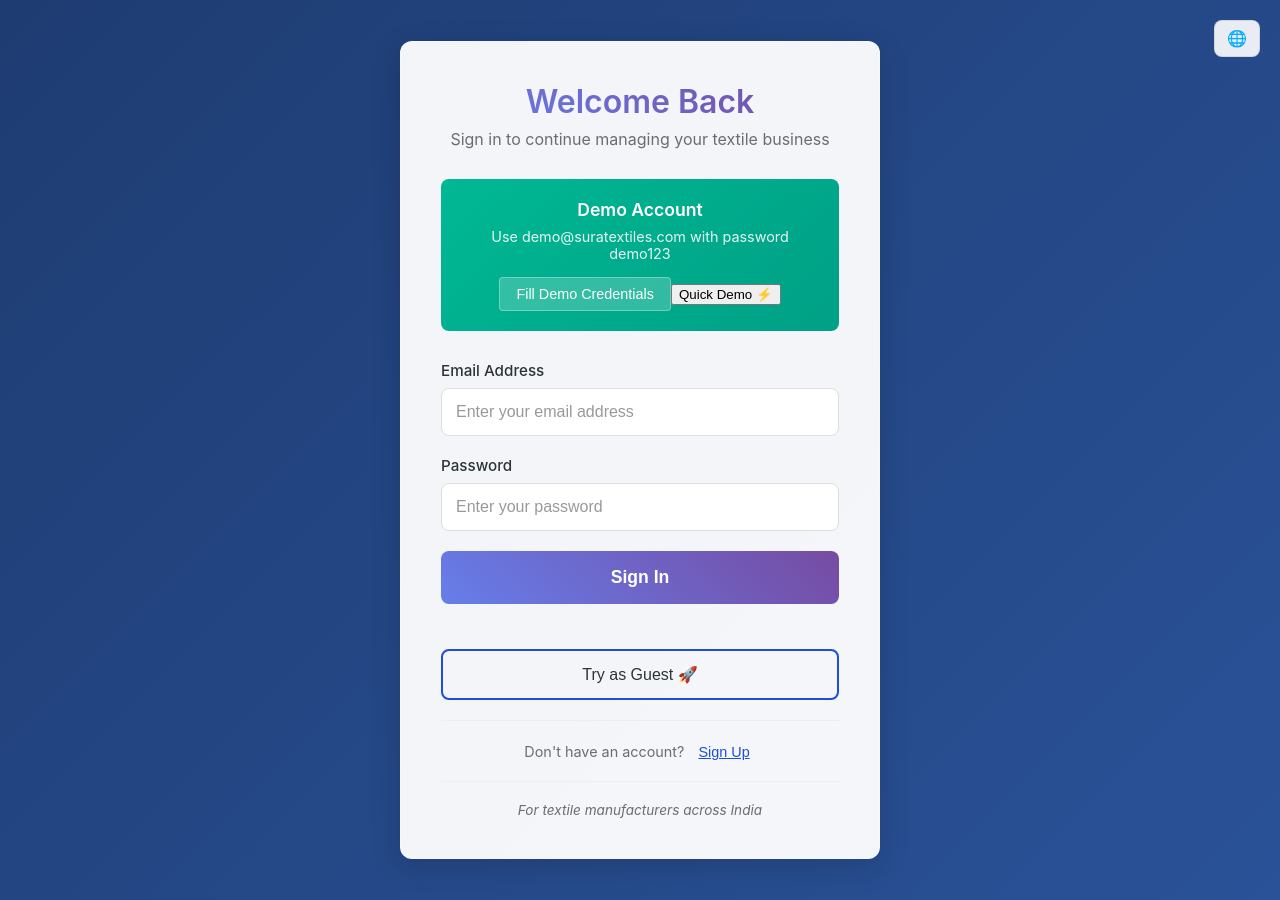
Test: Login Component › Demo Credentials Functionality › should fill demo credentials when demo button clicked
This screenshot has width=1280, height=900.
Click the button "Fill Demo Credentials" at (585, 294), box left=499, top=277, right=671, bottom=311
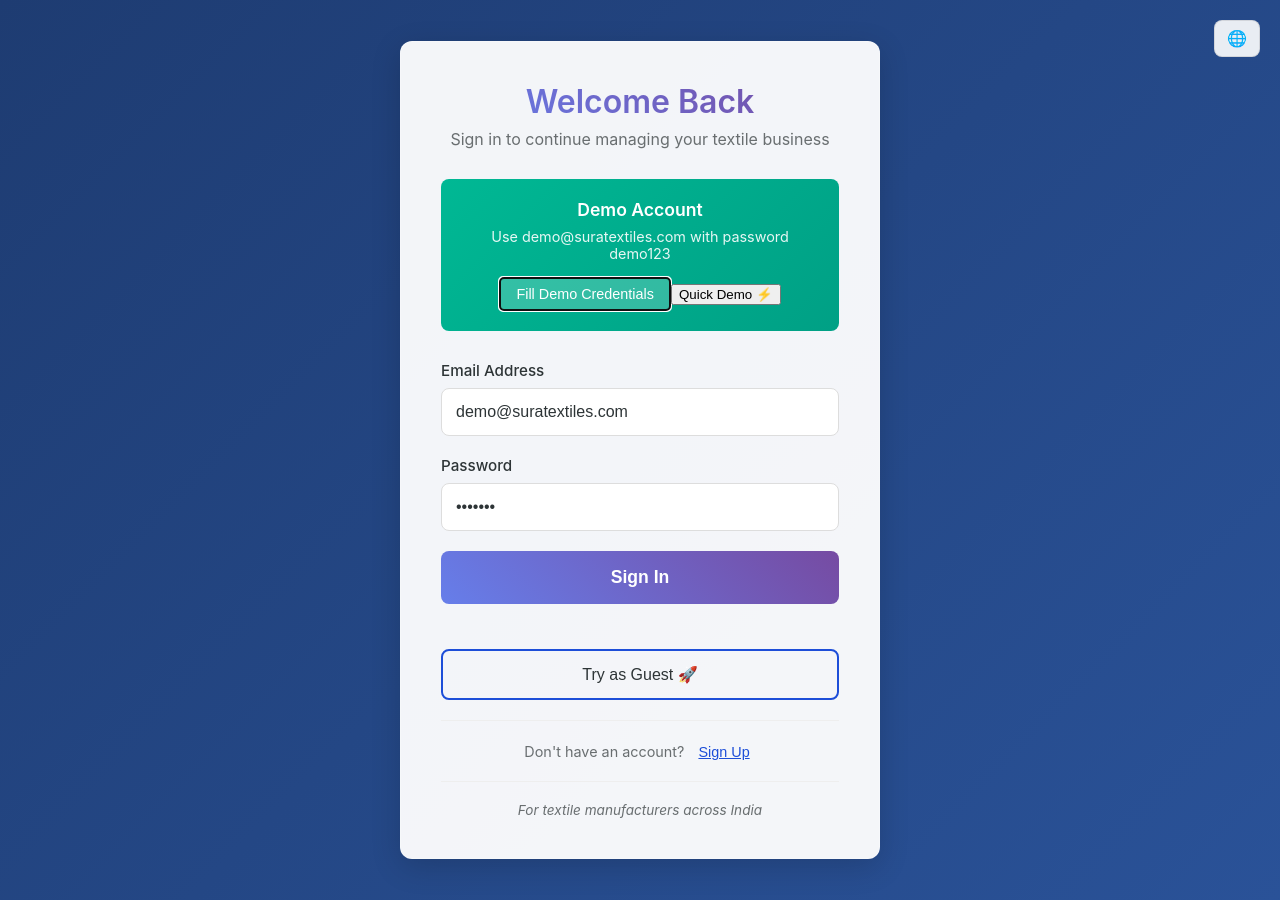
Check: the field labelled "Email Address" holds "demo@suratextiles.com", box left=441, top=388, right=839, bottom=436
Check: the password field labelled "Password" holds "demo123", box left=441, top=483, right=839, bottom=531
